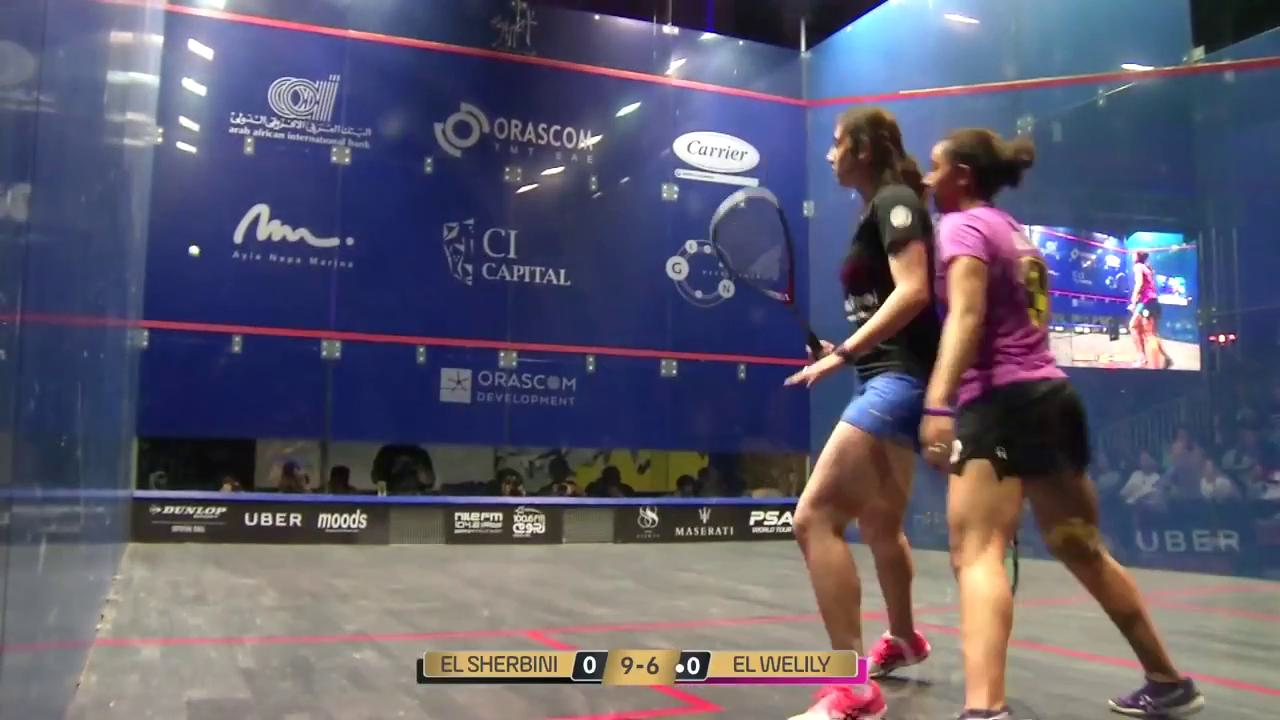normal: (769, 99, 1196, 720)
